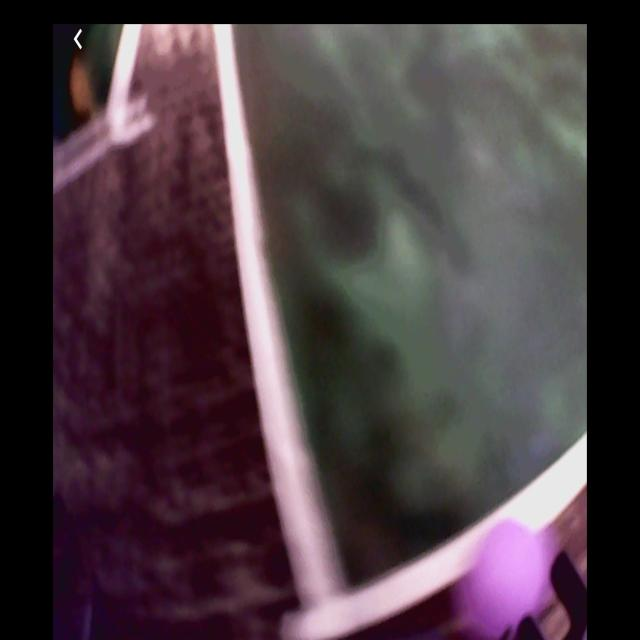ball: (467, 516, 552, 633)
